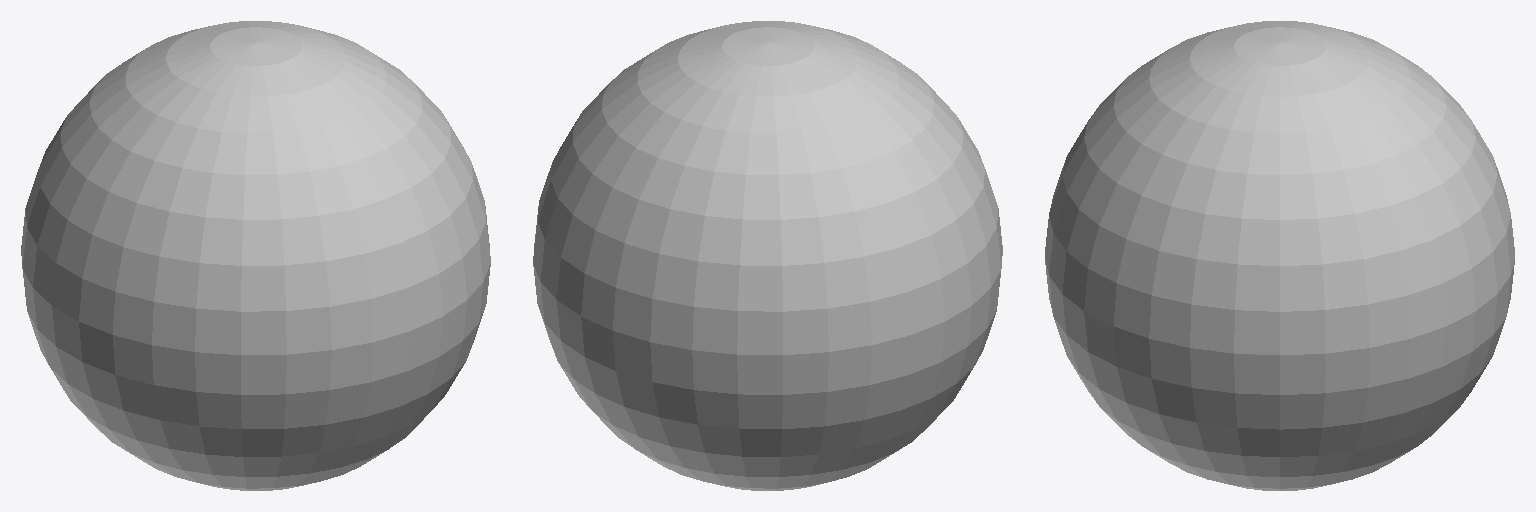
File: Sun.obj
3 views of the same model, side by side, from view 1: azimuth 30°, elevation 25°; view 2: azimuth 150°, elevation 25°; view 3: azimuth 270°, elevation 25° (orthographic).
Visible parts, largest first — view 1: Sphere_Sphere.001; view 2: Sphere_Sphere.001; view 3: Sphere_Sphere.001.
Part boxes in pixels (bbox=[...]): Sphere_Sphere.001: bbox=[21, 21, 490, 490]; Sphere_Sphere.001: bbox=[533, 21, 1002, 490]; Sphere_Sphere.001: bbox=[1045, 21, 1514, 490].
Bounding box in the file's own units: 1.48 × 1.48 × 1.48.